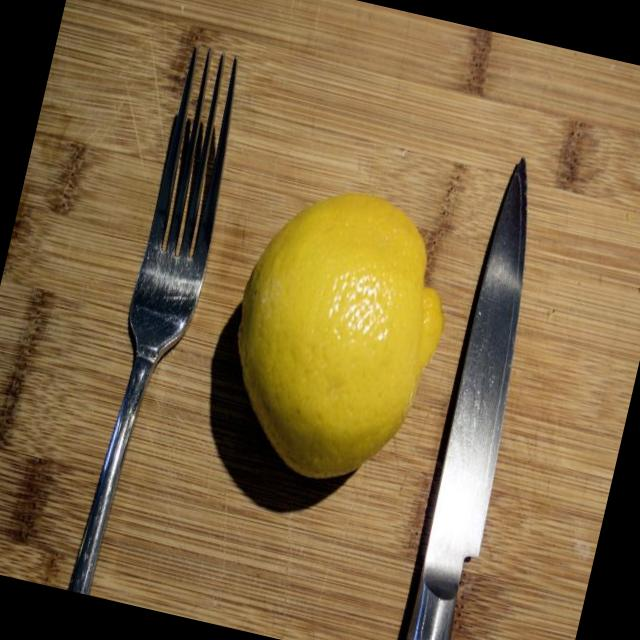Knife: (398, 159, 526, 640)
